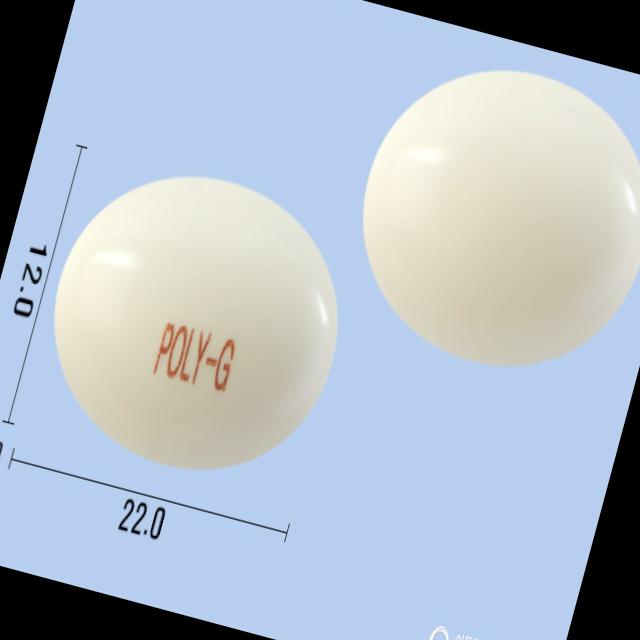Poly G Vaginal Soft Cap: (21, 142, 371, 499)
